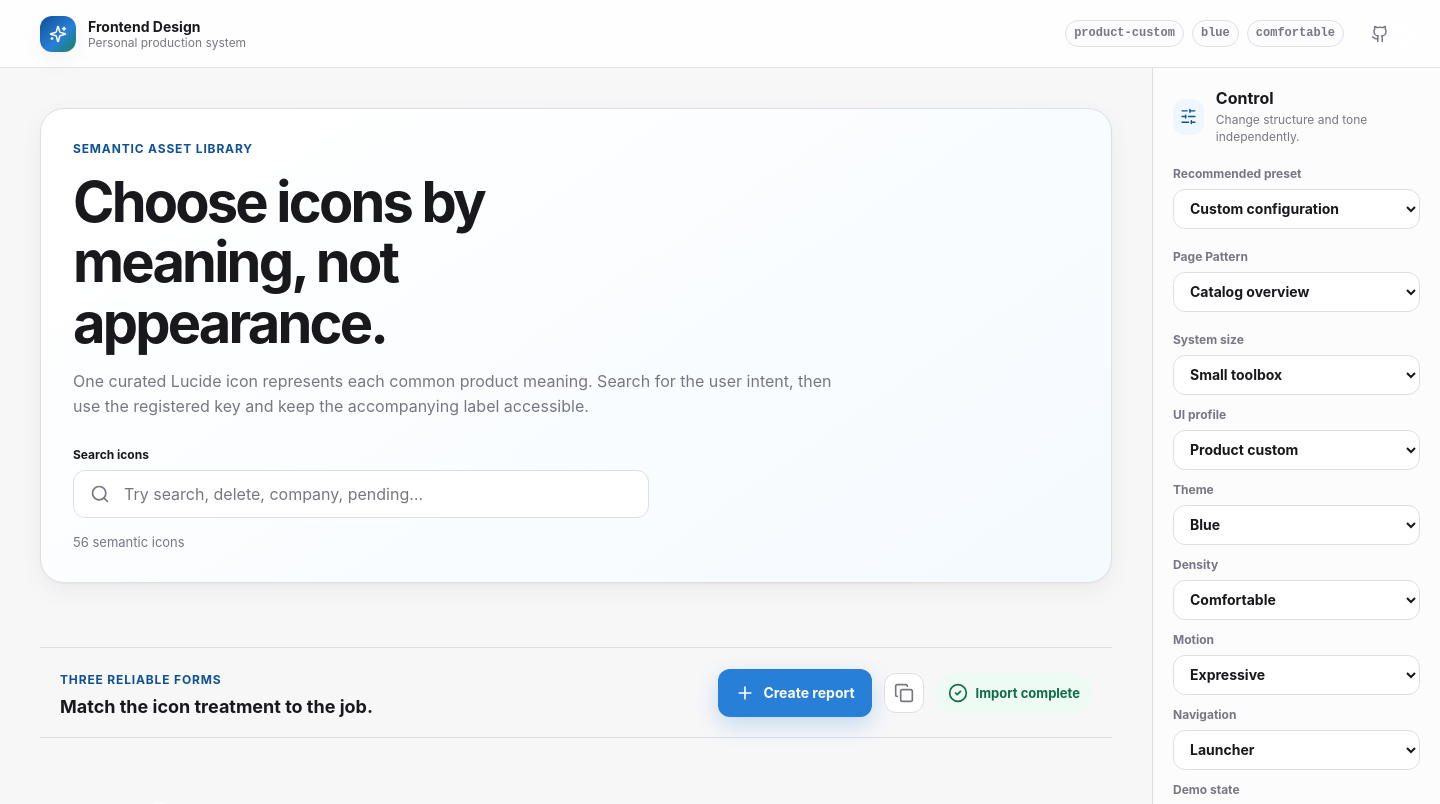
Test case: showcase application › offers a searchable semantic icon catalog
Expected: the heading "Choose icons by meaning, not appearance." is shown, [73,168,484,357]
Expected: the text "blue" is shown, [1192,20,1239,47]
Type "destroy" into the field labelled "Search icons" at (377, 494), box [122,483,632,505]
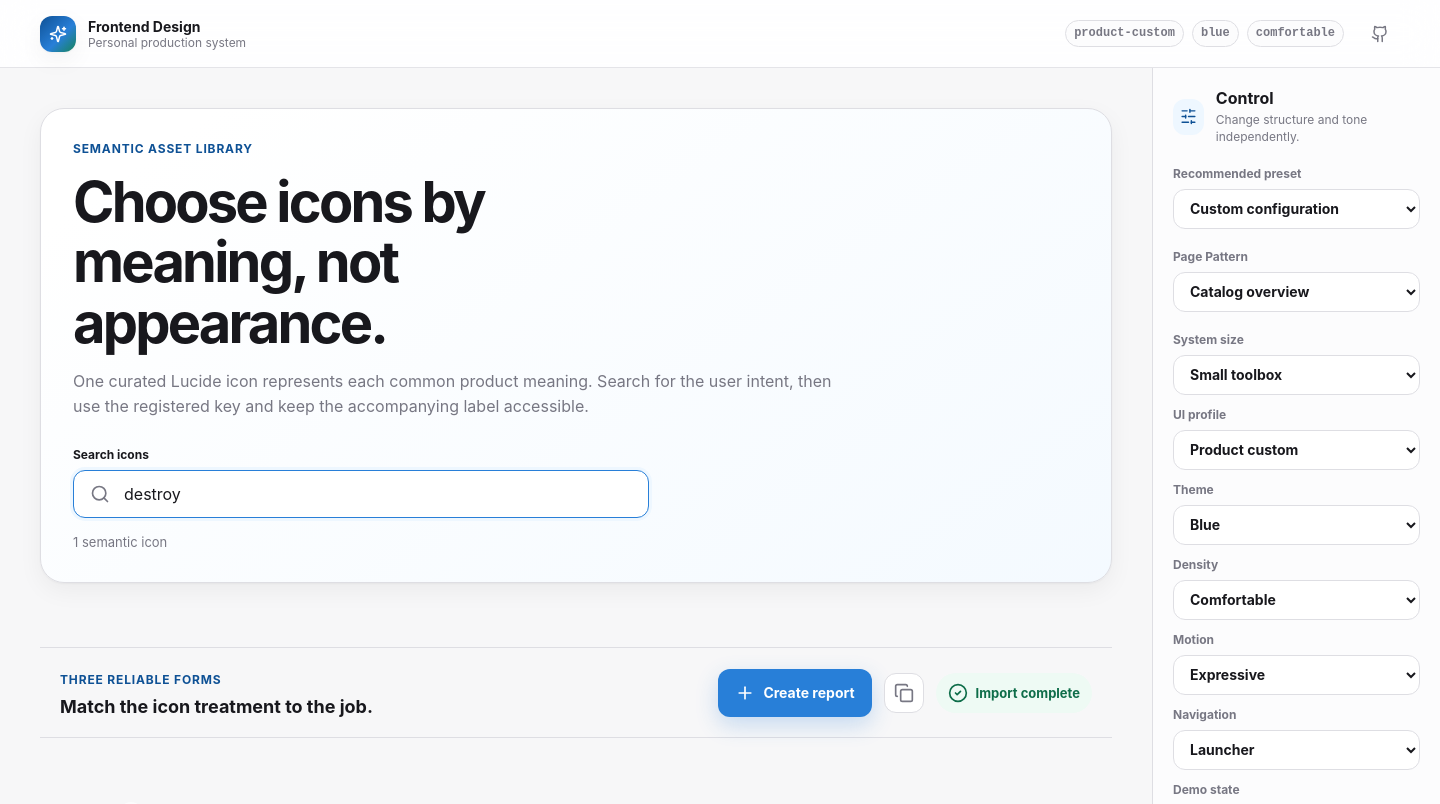
Expected: the text "1 semantic icon" is shown, [73,534,167,550]
